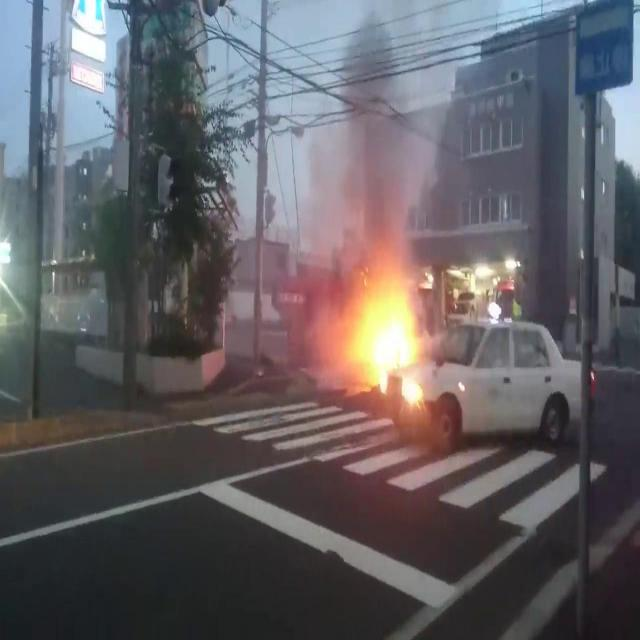fire: (323, 233, 418, 388)
